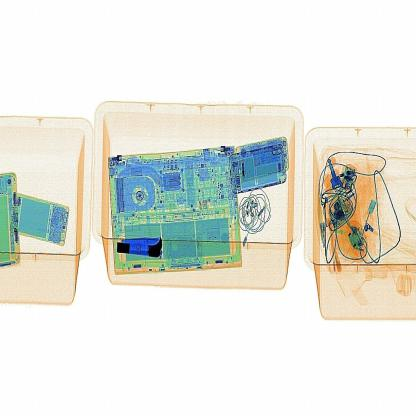knife: (113, 230, 170, 258)
